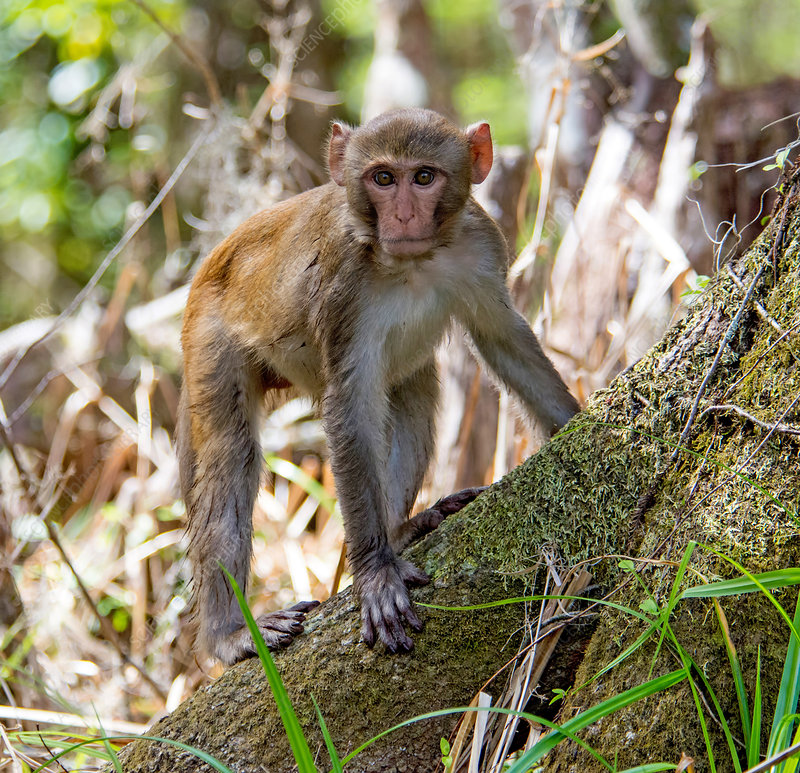monkey: (162, 105, 633, 670)
